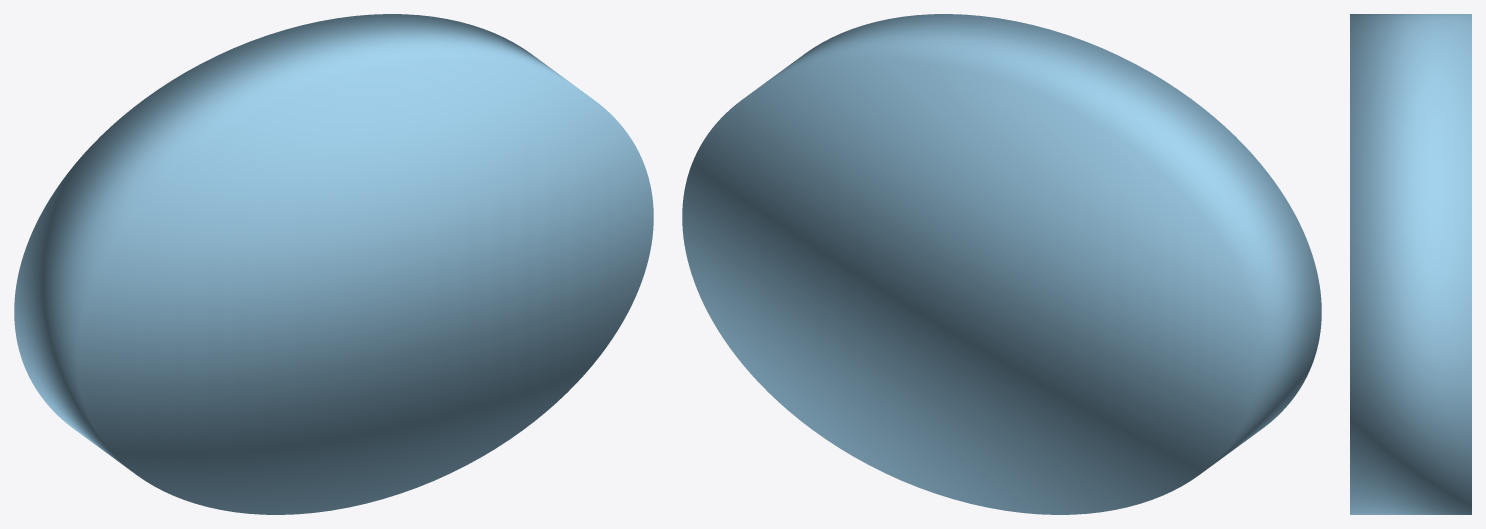
The model's file is mount_2_collision.obj.
The picture shows the model from 3 angles, left to right: view 1: azimuth 30°, elevation 25°; view 2: azimuth 150°, elevation 25°; view 3: azimuth 270°, elevation 25°; orthographic projection. The views are drawn at different scales.
Bounding box in the file's own units: 0.053 × 0.038 × 0.01.
